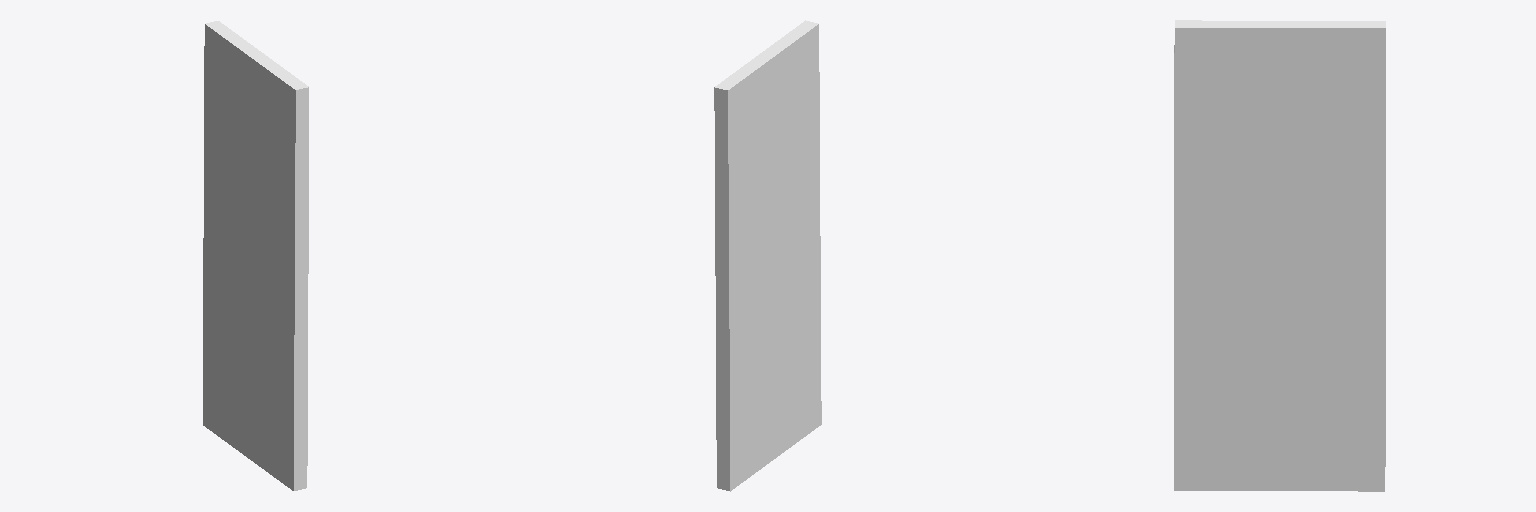
URDF robot description (board):
<?xml version="0.0" ?>
<robot name="board">
    <material name="white">
        <color rgba="1 1 1 1"/>
    </material>

    <link name="baseLink">
        <!-- from lego/lego.urdf -->
        <inertial>
            <origin rpy="0 0 0" xyz="0 0 0"/>
            <mass value="10.0"/>
            <inertia ixx="1" ixy="0" ixz="0" iyy="1" iyz="0" izz="1"/>
        </inertial>
        <visual>
            <origin rpy="1.57 0 0" xyz="0 0 0"/>
            <geometry>
                <!--        radius: 10mm, depth: 14.5mm-->
                <mesh filename="meshes/vertical_border.obj" scale="1 1 1"/>
                <!--        <box size="0.002 0.002 0.002"/>-->
            </geometry>
            <material name="white"/>
        </visual>
        <collision>
            <origin rpy="1.57 0 0" xyz="0 0 0"/>
            <geometry>
                <mesh filename="meshes/vertical_border.obj" scale="1 1 1"/>
                       <!-- <box size="2 2 2"/> -->
            </geometry>
        </collision>
    </link>
</robot>

--- Render facts (derived) ---
Views: 3 orthographic renders of the robot side by side, from view 1: azimuth 30°, elevation 25°; view 2: azimuth 150°, elevation 25°; view 3: azimuth 270°, elevation 25°.
Robot: board — 1 links, 0 joints (none); root link baseLink; default pose: all joints at 0.
Visible links, largest first — view 1: baseLink; view 2: baseLink; view 3: baseLink.
Link boxes in pixels (x1,y1,x2,y2): baseLink: (203, 21, 308, 490); baseLink: (714, 20, 821, 491); baseLink: (1174, 20, 1385, 491).
Size in the robot's own frame: 0.0131 by 0.1295 by 0.3134 metres.
1 mesh visuals loaded from 1 distinct referenced files (1 OBJ).